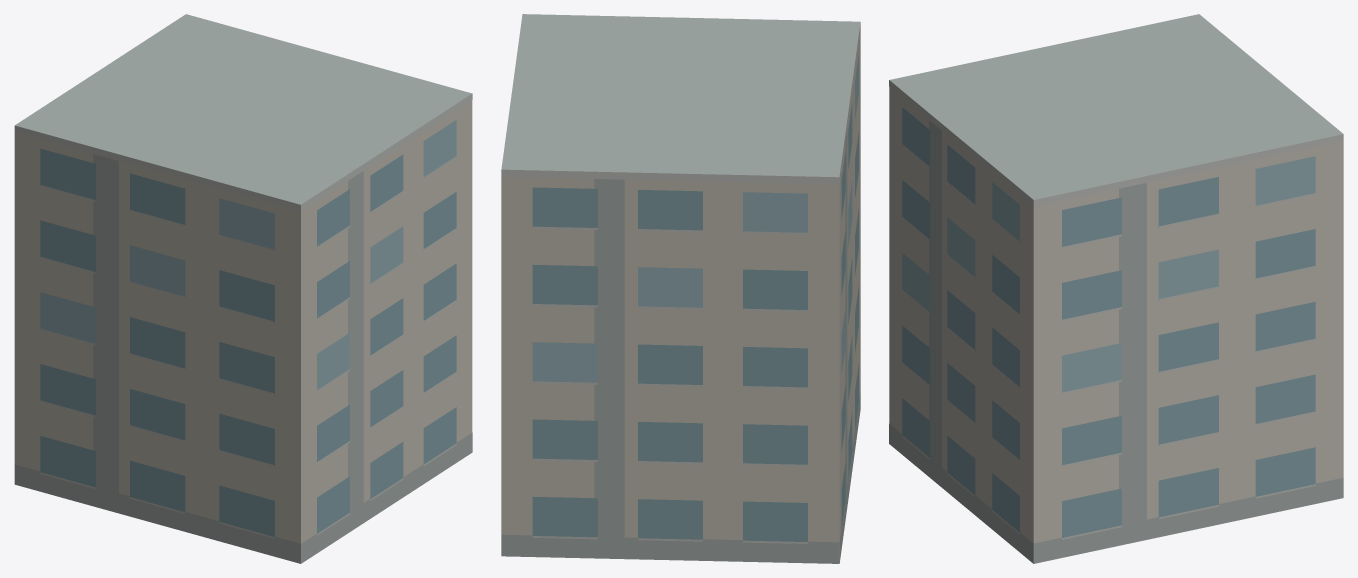
The model's file is survey-upis-32969210.glb.
3 renders of one model, left to right at view 1: azimuth 30°, elevation 25°; view 2: azimuth 150°, elevation 25°; view 3: azimuth 270°, elevation 25°, orthographic. The views are drawn at different scales.
Parts seen in each view (by area): view 1: survey-upis-32969210.tmp; view 2: survey-upis-32969210.tmp; view 3: survey-upis-32969210.tmp.
Boxes of the visible parts, bbox=[...] form: survey-upis-32969210.tmp: bbox=[14, 14, 472, 563]; survey-upis-32969210.tmp: bbox=[501, 14, 860, 563]; survey-upis-32969210.tmp: bbox=[889, 14, 1343, 563].
Bounding box in the file's own units: 14.37 × 13.1 × 14.84.
